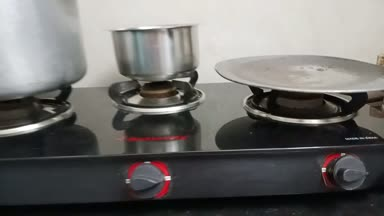flame_gas_off: (252, 87, 379, 192), (108, 71, 195, 200)
